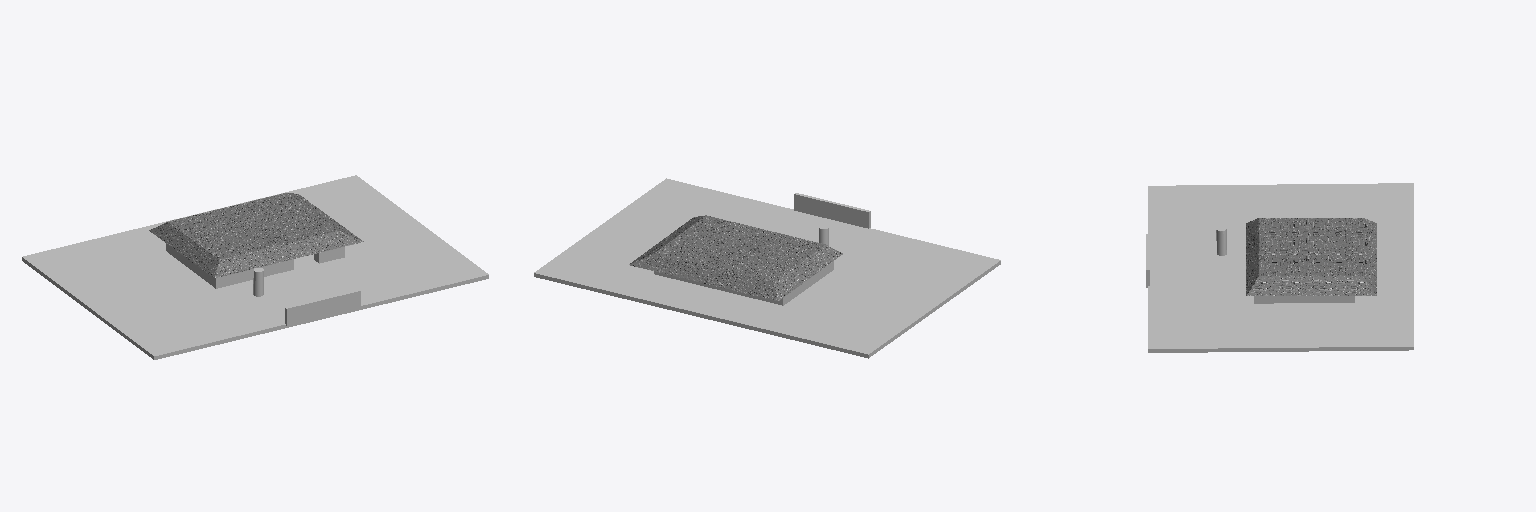
The picture shows the model from 3 angles: view 1: azimuth 30°, elevation 25°; view 2: azimuth 150°, elevation 25°; view 3: azimuth 270°, elevation 25°; orthographic projection.
Visible parts, largest first — view 1: Cube, Cube.013, Cube.001; view 2: Cube, Cube.013, Cube.001; view 3: Cube, Cube.013.
Part boxes in pixels (bbox=[...]): Cube: bbox=[22, 175, 488, 359]; Cube.013: bbox=[149, 193, 363, 277]; Cube.001: bbox=[285, 289, 360, 325]; Cube: bbox=[534, 178, 1000, 358]; Cube.013: bbox=[629, 215, 842, 300]; Cube.001: bbox=[794, 193, 870, 228]; Cube: bbox=[1148, 183, 1413, 352]; Cube.013: bbox=[1246, 218, 1376, 295].
Size of the model in its own units: 179 by 15.76 by 124.
Materials: 41 (4 with a texture image).